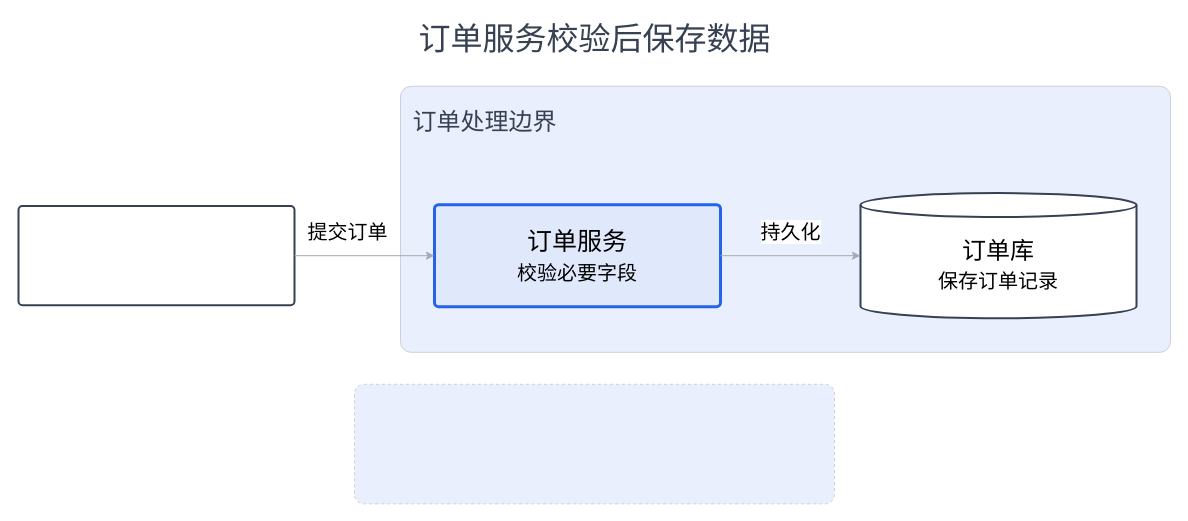
Image size: 1188x521. Some labels were removed from this diagram. The shapes that lost their labels are listed below. From the top down, each one's centre as x and y in pixels, then its label:
point (156, 255): API 入口 接收订单
point (594, 443): 阅读重点 • 入口接收，服务校验，数据库保存。
